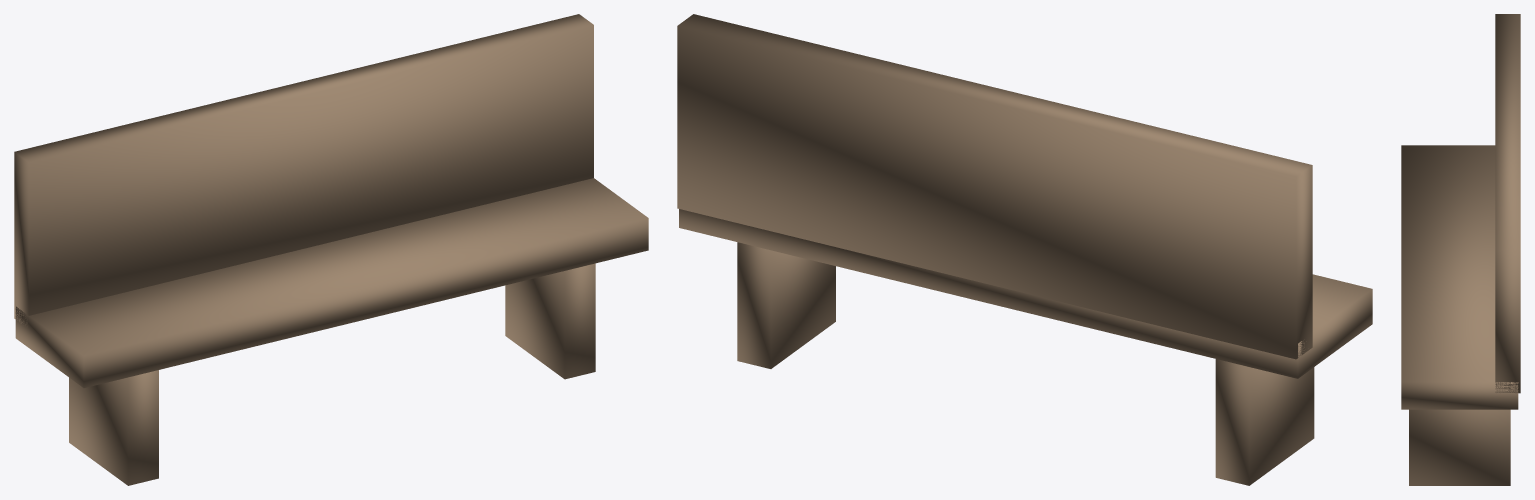
File: church_pew.glb
The picture shows the model from 3 angles, left to right: view 1: azimuth 30°, elevation 25°; view 2: azimuth 150°, elevation 25°; view 3: azimuth 270°, elevation 25°; orthographic projection. The views are drawn at different scales.
Parts seen in each view (by area): view 1: world; view 2: world; view 3: world.
Boxes of the visible parts, box(x1,y1,x2,y2) form: world: box(14, 14, 648, 485); world: box(677, 14, 1372, 485); world: box(1401, 14, 1520, 485).
Bounding box in the file's own units: 2.2 × 1.11 × 0.47.
